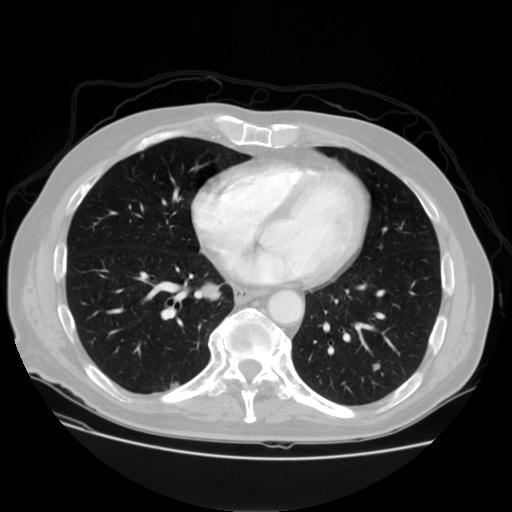nodule: (370, 360, 383, 373)
